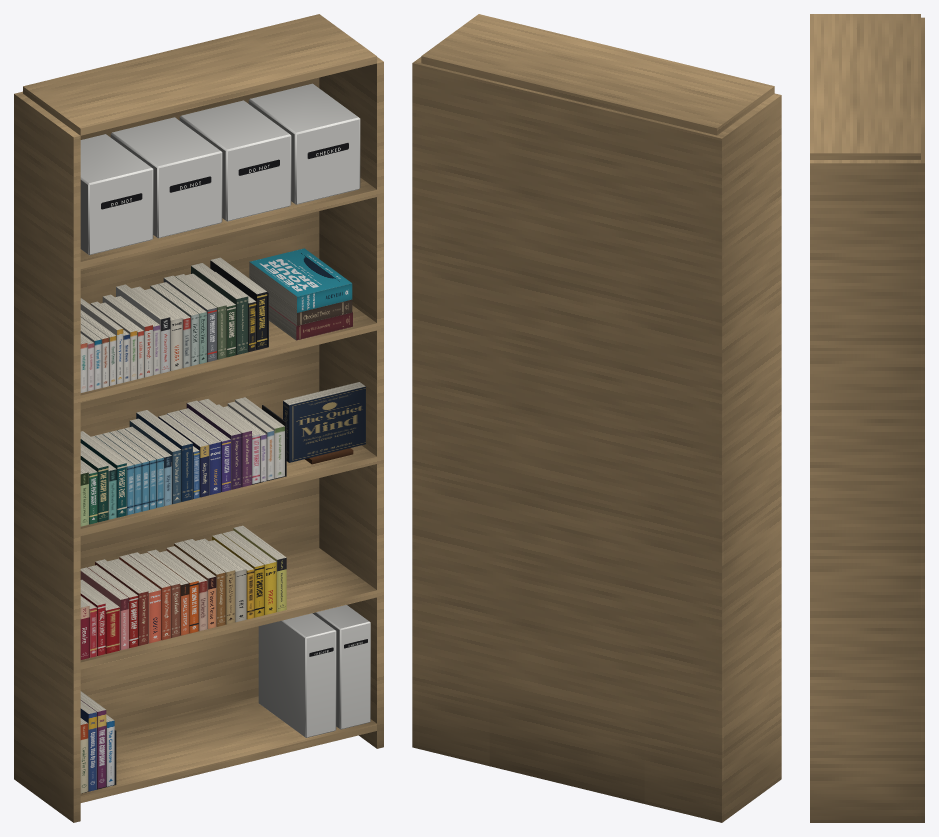
Rendered from bookshelf.glb.
3 views of the same model, side by side, from view 1: azimuth 30°, elevation 25°; view 2: azimuth 150°, elevation 25°; view 3: azimuth 270°, elevation 25° (orthographic). The views are drawn at different scales.
Parts seen in each view (by area): view 1: body, panels, decals; view 2: body; view 3: body.
Boxes of the visible parts, <box> form: body: <box>14,14,383,822</box>; panels: <box>80,248,365,793</box>; decals: <box>101,143,367,656</box>; body: <box>412,14,781,822</box>; body: <box>810,14,924,822</box>.
Size of what is drawn, in the model's own units: 0.9 by 1.92 by 0.3.
Materials: 6 (4 with a texture image).
